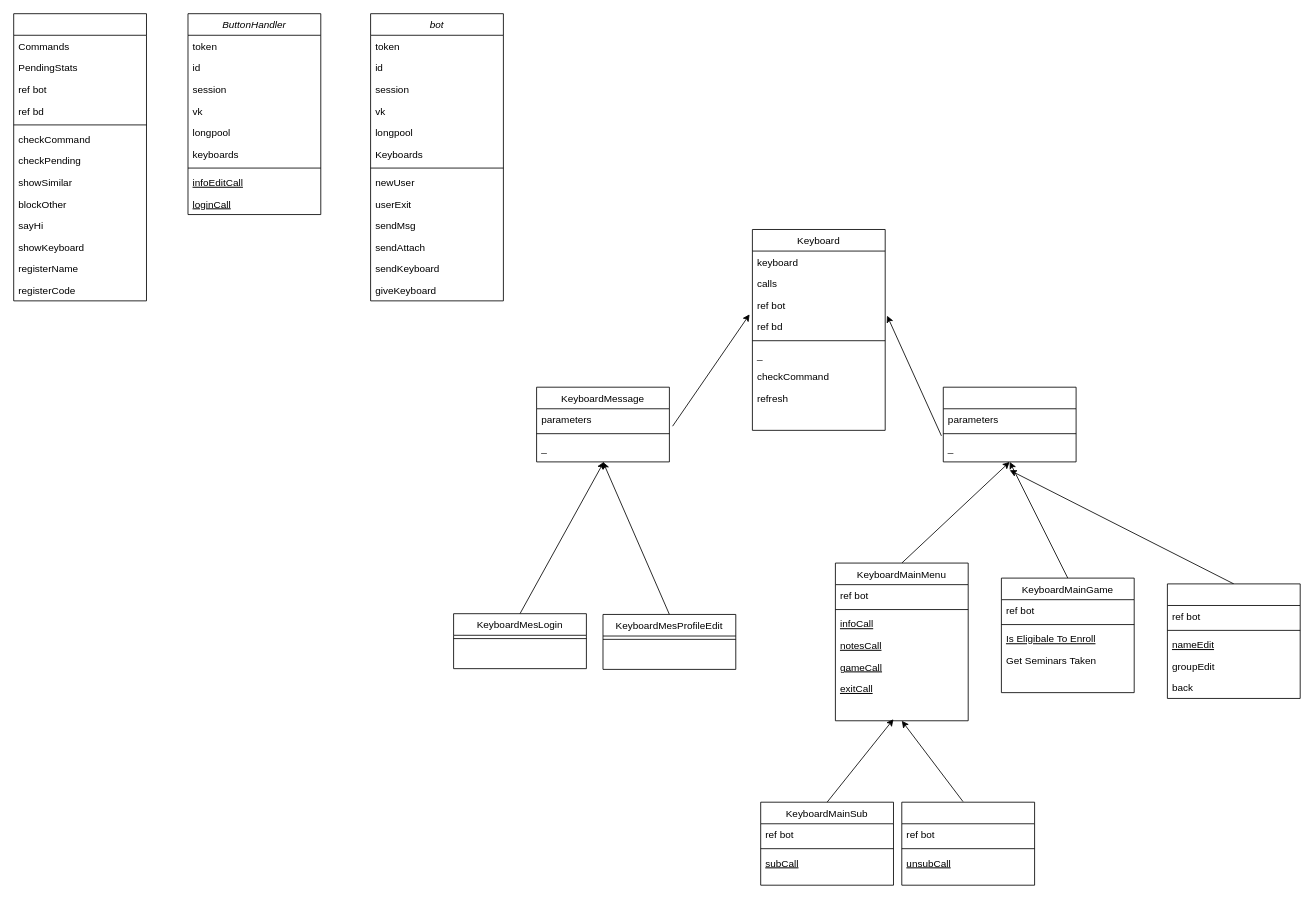
The diagram is 1314 pixels wide and 899 high, and some of its shapes have lost their labels. The box of each missing label's shape, as (x1, y1, x2, y2) in pixels:
KeyboardMain: (942, 386, 1076, 462)
KeyboardMainProfileEdit: (1167, 583, 1300, 698)
KeyboardMainUnsub: (901, 801, 1035, 885)
MessageHandler: (13, 13, 146, 301)
